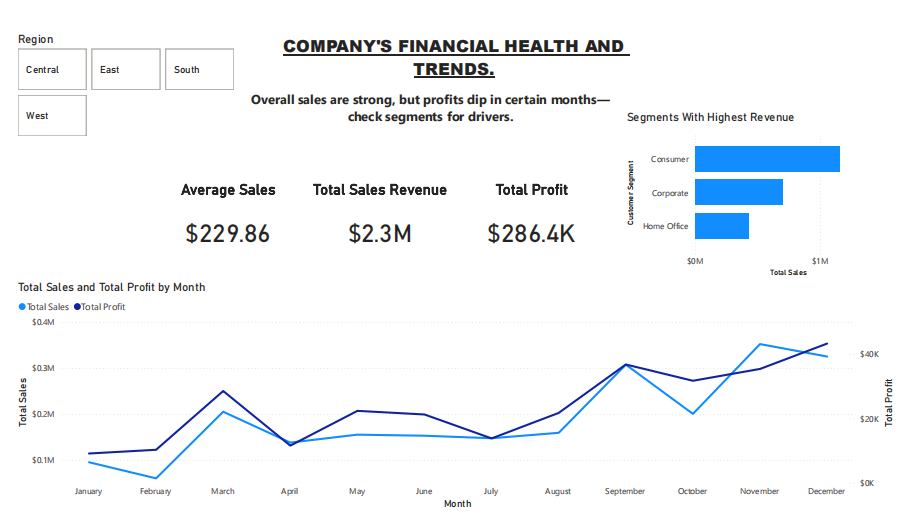

The dashboard page shown, as its layout file describes it:
{"tool":"powerbi","page":{"name":"Sales & Performance Overview ","canvas":[1280,720],"ordinal":0},"visuals":[{"type":"card","title":"Total Sales Revenue","fields":{"Values":["Sum(Orders.Sales)"]},"box":[420.1,237.8,219.9,121.6],"z":0},{"type":"card","title":"Total Profit","fields":{"Values":["Sum(Orders.Profit)"]},"box":[640,237.8,219.9,121.6],"z":1000},{"type":"card","title":"Average Sales","fields":{"Values":["Avg(Orders.Sales)"]},"box":[200.2,237.8,219.9,121.6],"z":2000},{"type":"lineChart","fields":{"Category":["Orders.Order Date.Variation.Date Hierarchy.Year","Orders.Order Date.Variation.Date Hierarchy.Month"],"Y":["Orders.Total Sales"],"Y2":["Orders.Total Profit"]},"box":[0,380.8,1280,337.9],"z":3000},{"type":"clusteredBarChart","title":"Segments With Highest Revenue","fields":{"Category":["Customers.Customer Segment"],"Y":["Orders.Total Sales"]},"box":[883.1,135.9,396.9,244.9],"z":4000},{"type":"textbox","box":[323.6,101.9,559.6,73.3],"z":5000},{"type":"advancedSlicerVisual","fields":{"Values":["States.Region"]},"box":[0,23.2,323.6,155.5],"z":6000},{"type":"textbox","box":[323.6,21.5,627.5,80.4],"z":7000}]}

Visuals, with their boxes in screenshot pixels (x1, y1, x2, y2), scaled from the page's 1280x720 canvas onto the 914x527 screenshot:
"Total Sales Revenue" card: (x1=300, y1=174, x2=457, y2=263)
"Total Profit" card: (x1=457, y1=174, x2=614, y2=263)
"Average Sales" card: (x1=143, y1=174, x2=300, y2=263)
lineChart - Orders.Order Date.Variation.Date Hierarchy.Year x Orders.Order Date.Variation.Date Hierarchy.Month: (x1=0, y1=279, x2=913, y2=526)
"Segments With Highest Revenue" clusteredBarChart: (x1=631, y1=99, x2=913, y2=279)
textbox: (x1=231, y1=75, x2=631, y2=128)
advancedSlicerVisual - States.Region: (x1=0, y1=17, x2=231, y2=131)
textbox: (x1=231, y1=16, x2=679, y2=75)
